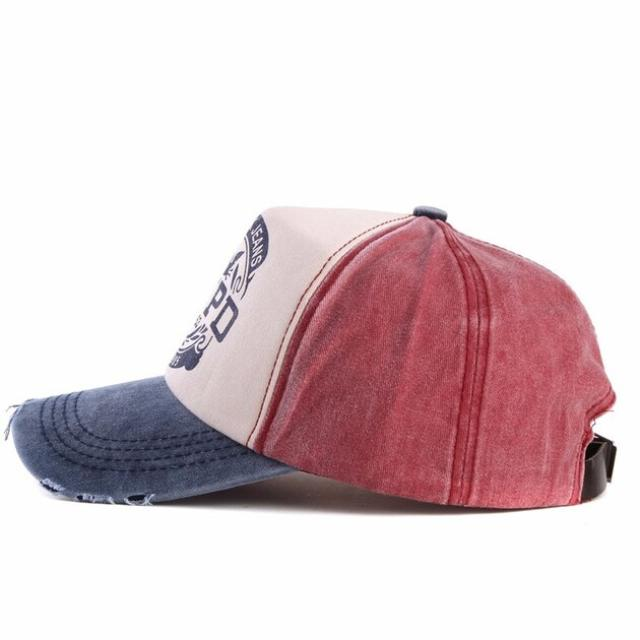Cap: (5, 198, 625, 517)
